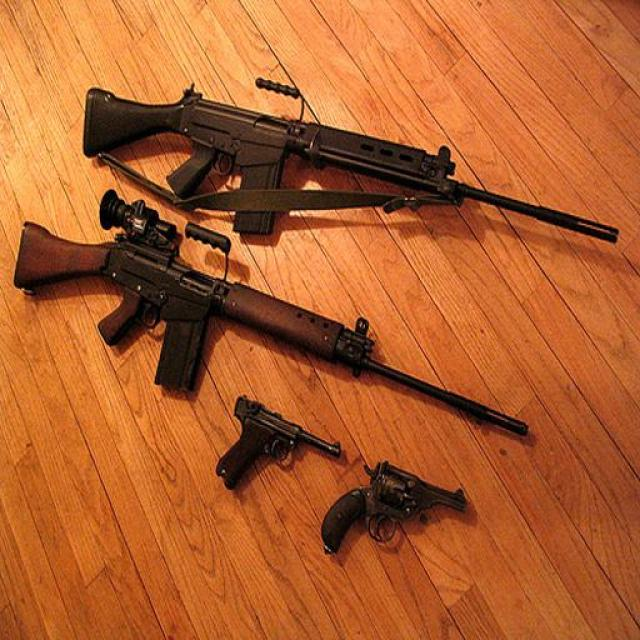pistol: (313, 459, 468, 553), (214, 395, 340, 492)
